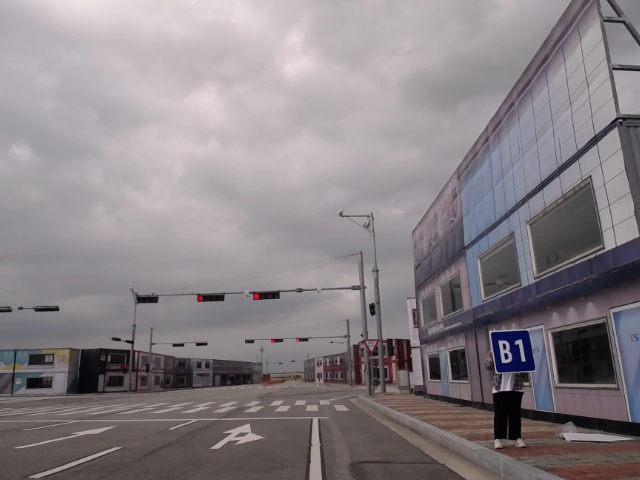delivery_b1: (489, 330, 536, 373)
red_4: (196, 294, 224, 302), (252, 292, 280, 300), (271, 339, 284, 343), (296, 338, 309, 342)
